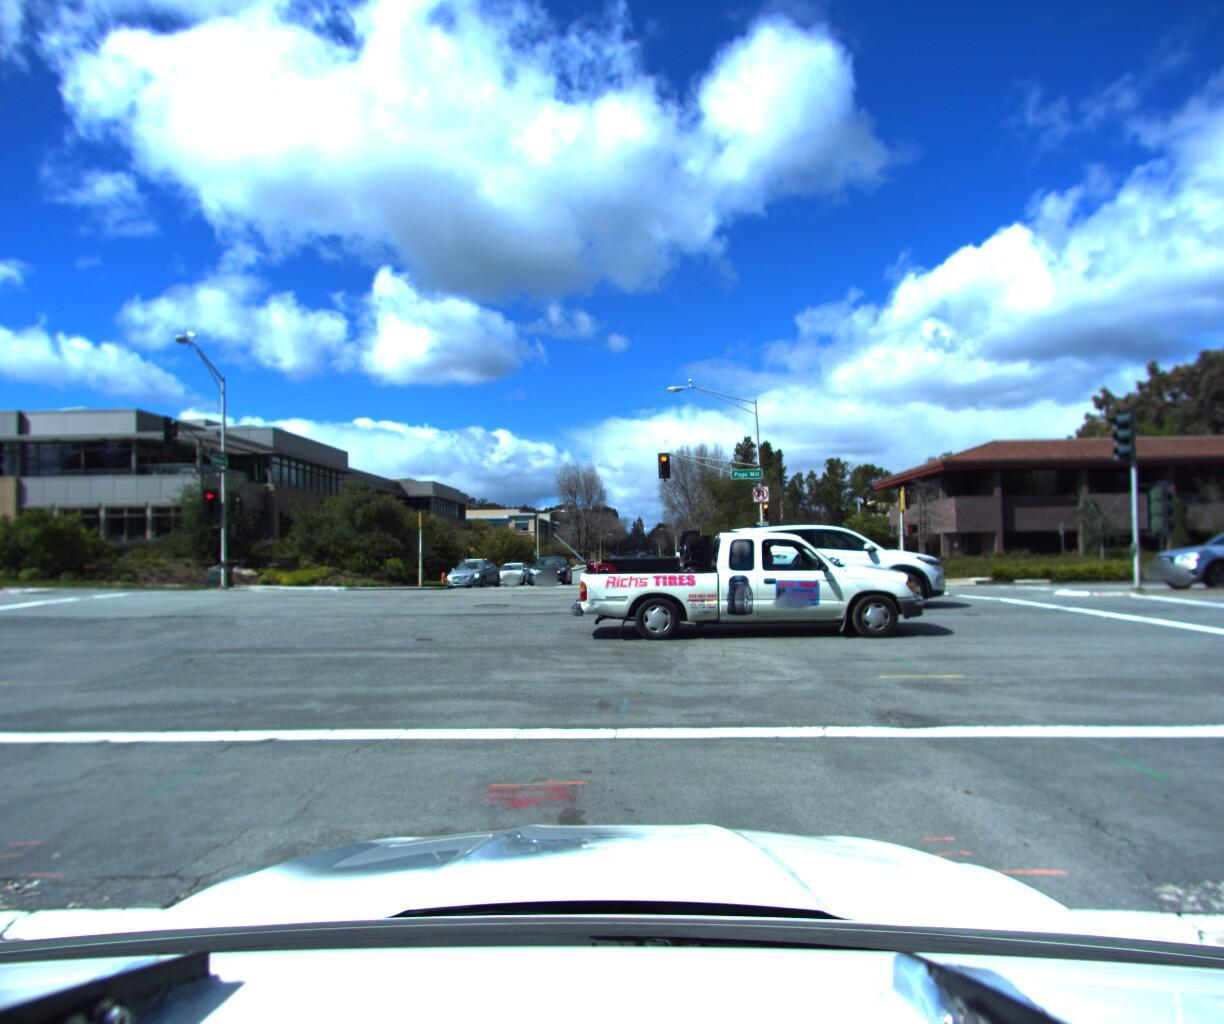car: (569, 516, 932, 642), (708, 515, 951, 609), (1122, 518, 1224, 593), (442, 559, 509, 592), (521, 555, 575, 588), (493, 562, 534, 588)
